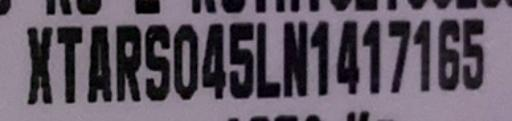letter: (54, 23, 84, 106), (280, 18, 310, 97), (143, 22, 173, 101), (112, 24, 142, 103), (24, 25, 54, 104), (334, 15, 362, 98), (458, 17, 488, 94), (172, 22, 200, 101), (200, 20, 226, 103), (86, 22, 112, 103), (386, 17, 412, 96), (436, 17, 462, 96), (228, 21, 254, 100), (255, 21, 281, 100), (410, 17, 434, 98), (309, 18, 331, 97), (361, 18, 383, 97)
